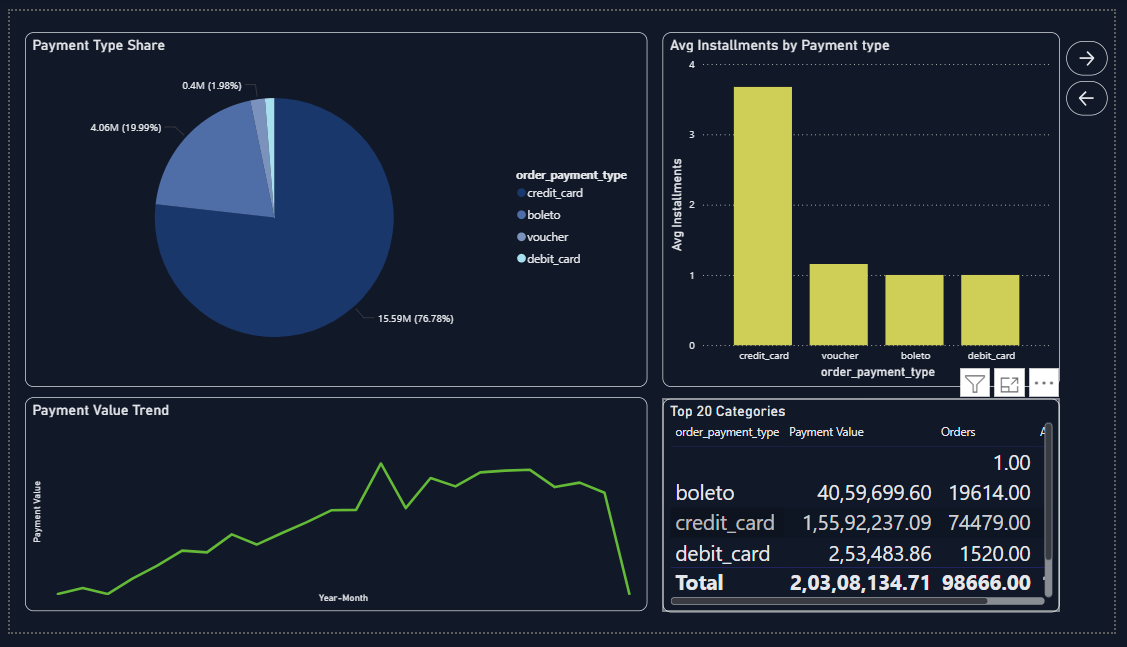

This screenshot's page, from the dashboard's own definition file:
{"tool":"powerbi","page":{"name":"Payments","canvas":[1280,720],"ordinal":7},"visuals":[{"type":"pieChart","title":"Payment Type Share","fields":{"Y":["public bi_fact_sales.Payment Value"],"Category":["public bi_fact_sales.order_payment_type"]},"box":[17.1,24.5,721.5,410.9],"z":0},{"type":"clusteredColumnChart","title":"Avg Installments by Payment type","fields":{"Category":["public bi_fact_sales.order_payment_type"],"Y":["public bi_fact_sales.Avg Installments"]},"box":[756.9,24.5,461,410.9],"z":1000},{"type":"lineChart","title":"Payment Value Trend","fields":{"Y":["public bi_fact_sales.Payment Value"],"Category":["DimDate.Year-Month"]},"box":[17.1,447.6,721.5,248.2],"z":2000},{"type":"tableEx","title":"Top 20 Categories","fields":{"Values":["public bi_fact_sales.order_payment_type","public bi_fact_sales.Payment Value","public bi_fact_sales.Orders","public bi_fact_sales.AOV"]},"box":[756.9,448.8,461,248.2],"z":3000},{"type":"actionButton","box":[1224.1,34.2,47.7,40.4],"z":4000},{"type":"actionButton","box":[1224.1,80.7,47.7,40.4],"z":5000}]}

Visuals, with their boxes in screenshot pixels (x1, y1, x2, y2), scaled from the page's 1280x720 canvas onto the 1127x647 screenshot:
"Payment Type Share" pieChart: [15, 22, 650, 391]
"Avg Installments by Payment type" clusteredColumnChart: [666, 22, 1072, 391]
"Payment Value Trend" lineChart: [15, 402, 650, 625]
"Top 20 Categories" tableEx: [666, 403, 1072, 626]
actionButton: [1078, 31, 1120, 67]
actionButton: [1078, 73, 1120, 109]
